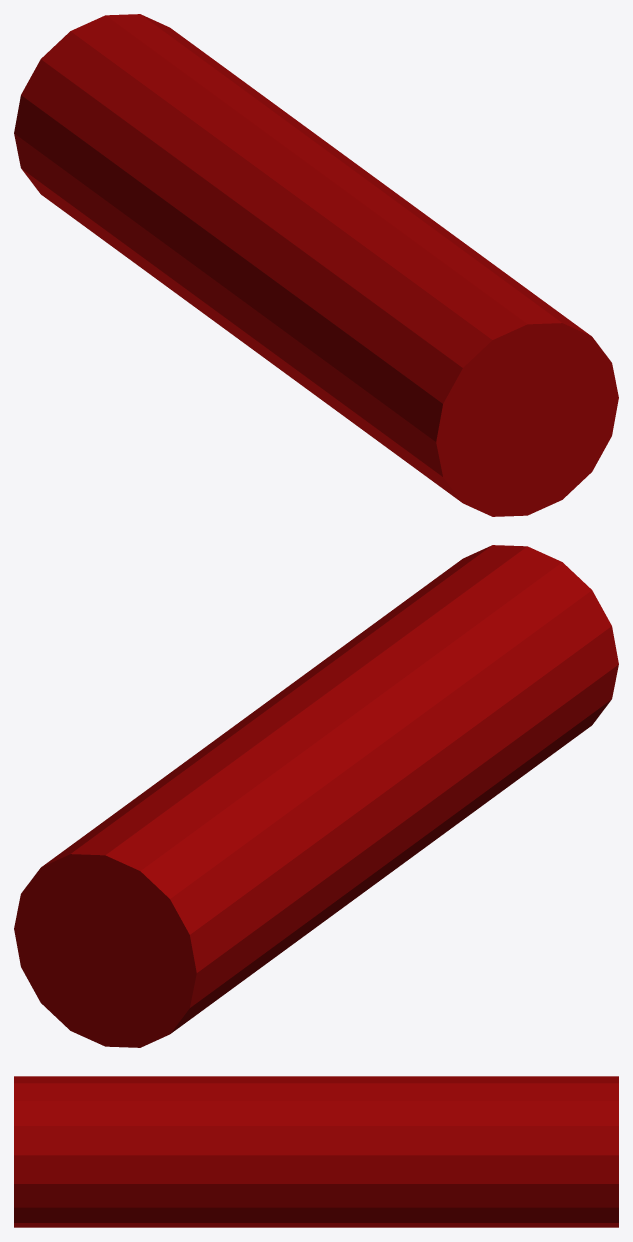
Rendered from rod.glb.
The picture shows the model from 3 angles, top to bottom: view 1: azimuth 30°, elevation 25°; view 2: azimuth 150°, elevation 25°; view 3: azimuth 270°, elevation 25°; orthographic projection. The views are drawn at different scales.
Visible parts, largest first — view 1: Cylinder; view 2: Cylinder; view 3: Cylinder.
Boxes of the visible parts, left/top/right/bottom form: Cylinder: left=14, top=14, right=618, bottom=516; Cylinder: left=14, top=545, right=618, bottom=1047; Cylinder: left=14, top=1076, right=618, bottom=1227.
Bounding box in the file's own units: 2 × 2 × 8.
